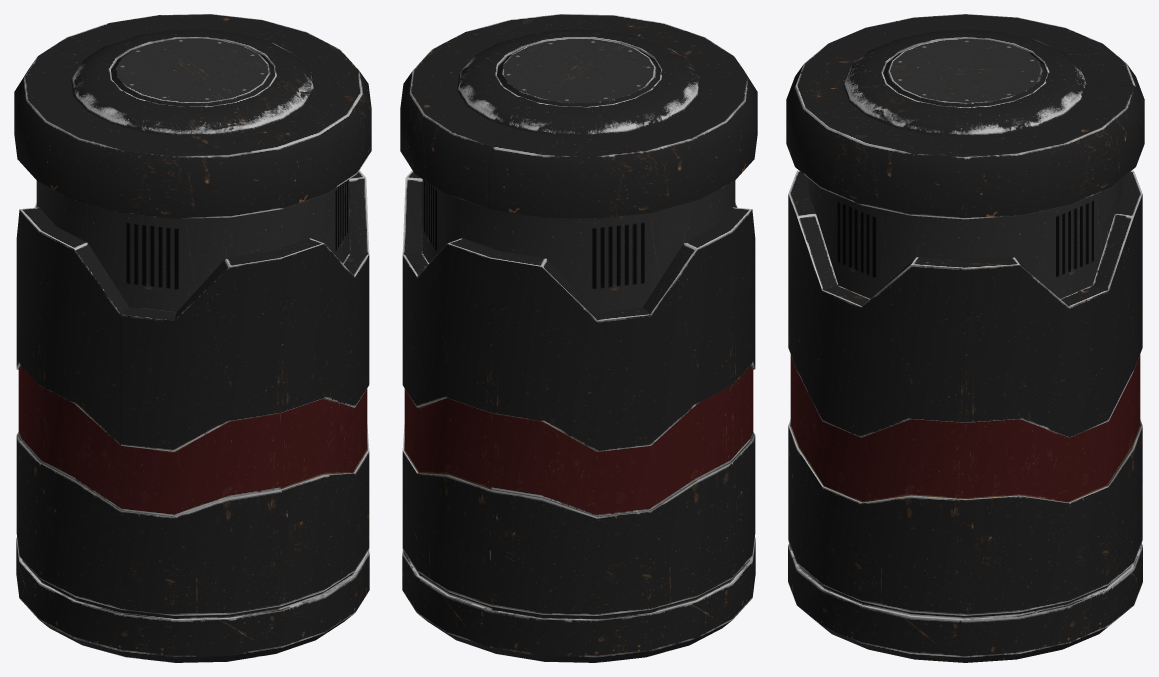
Rendered from ScifiBarrel.fbx.
3 renders of one model, left to right at view 1: azimuth 30°, elevation 25°; view 2: azimuth 150°, elevation 25°; view 3: azimuth 270°, elevation 25°, orthographic.
Visible parts, largest first — view 1: ScifiBarrel; view 2: ScifiBarrel; view 3: ScifiBarrel.
Boxes of the visible parts, x1,y1,x2,y2 form: ScifiBarrel: (14, 14, 371, 662); ScifiBarrel: (400, 14, 757, 662); ScifiBarrel: (786, 14, 1144, 662).
Size of the model in its own units: 60.64 by 97.47 by 60.64.
Materials: 1 (1 with a texture image).
